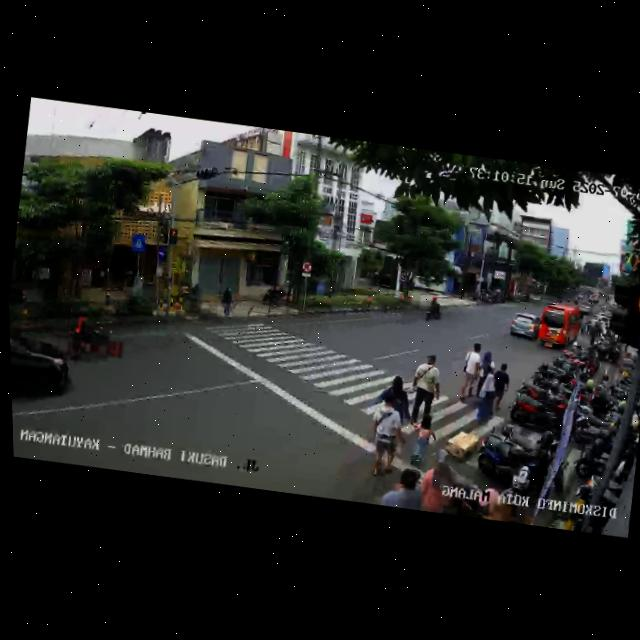car: (10, 332, 77, 419), (535, 300, 586, 354), (507, 311, 542, 343)
motorcycle: (63, 305, 130, 367), (422, 294, 445, 324)
person: (366, 394, 410, 479), (406, 354, 444, 435), (379, 463, 430, 512), (375, 374, 417, 425), (457, 340, 488, 404), (407, 413, 443, 467), (474, 371, 500, 427), (488, 359, 513, 411), (474, 348, 499, 399), (220, 285, 238, 319)
